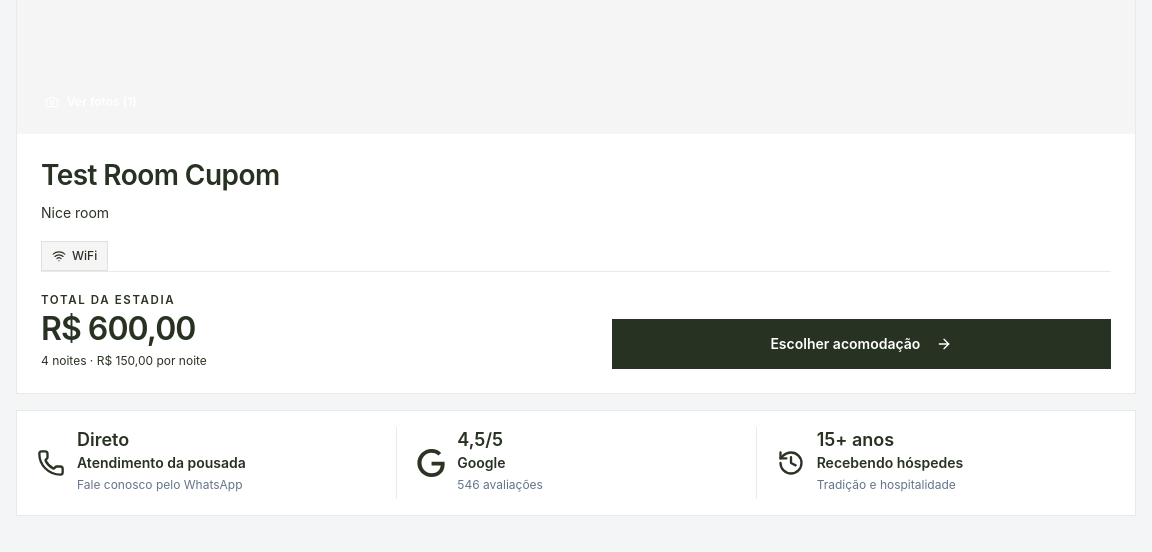
Test: ReservarPage › não exibe bloco de cupom aplicado quando não há código promocional
(page scrolled)
Expected: the heading "Test Room Cupom" is shown, [41, 158, 280, 192]
Click the button "Escolher acomodação": (861, 344) [612, 319, 1111, 369]
(page scrolled)
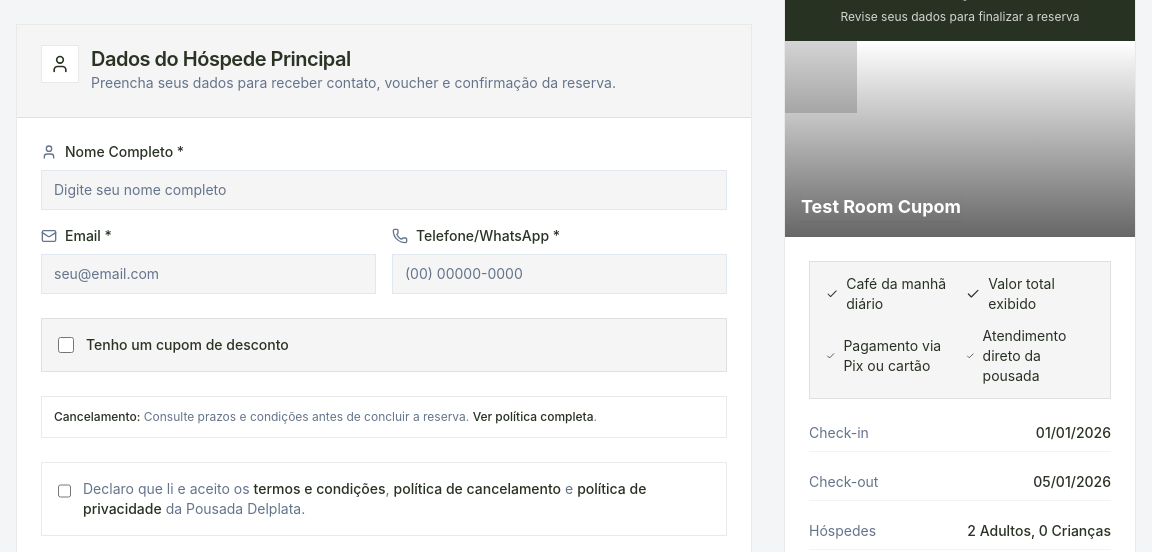
Expected: the field with placeholder "Digite o código do cupom" is not shown
Click the checkbox labelled "Tenho um cupom de desconto": (66, 344) [58, 336, 74, 352]
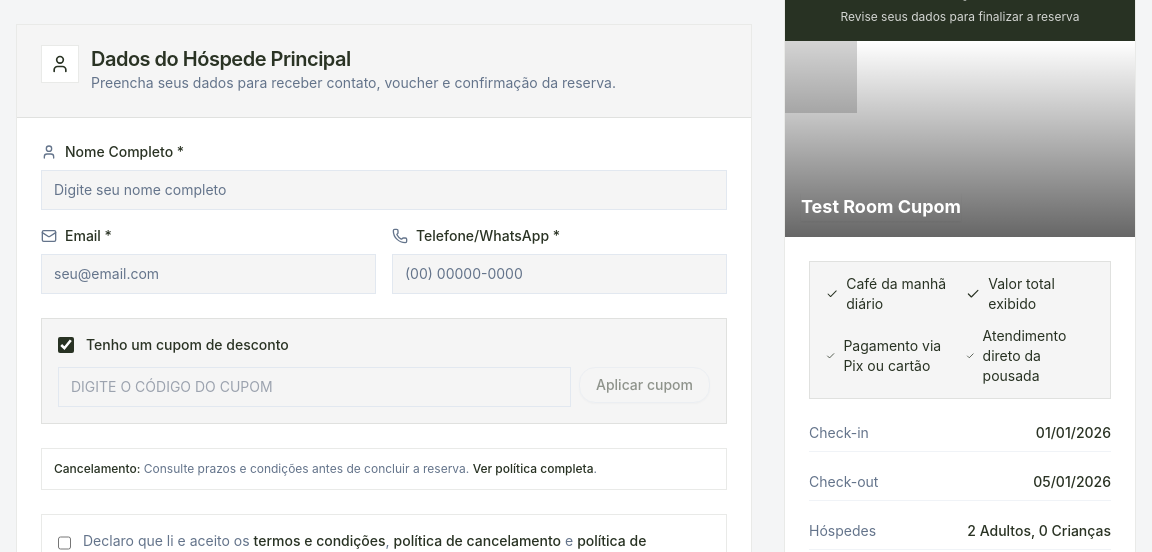
Expected: the field with placeholder "Digite o código do cupom" is shown, [58, 366, 571, 406]
